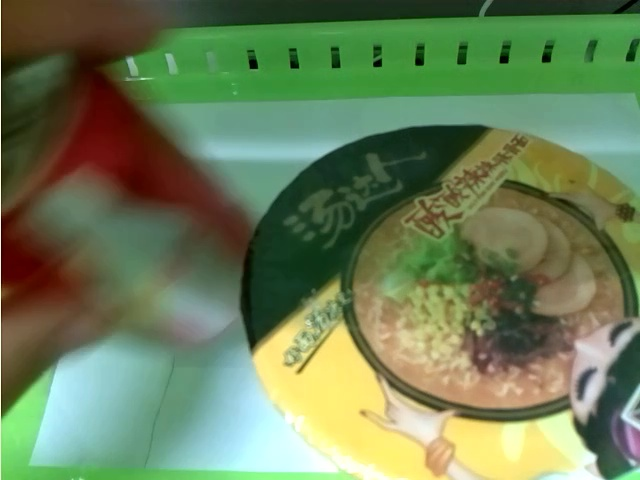noodles: (233, 116, 640, 480)
